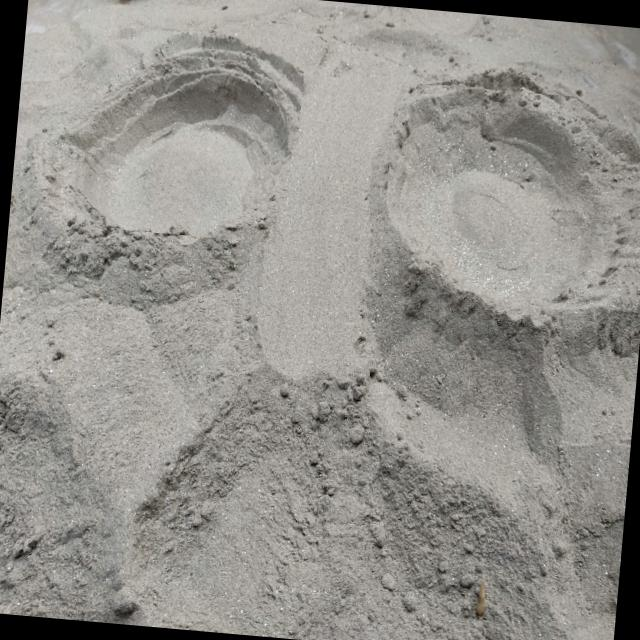C20: (385, 84, 640, 311), (76, 37, 302, 234)
